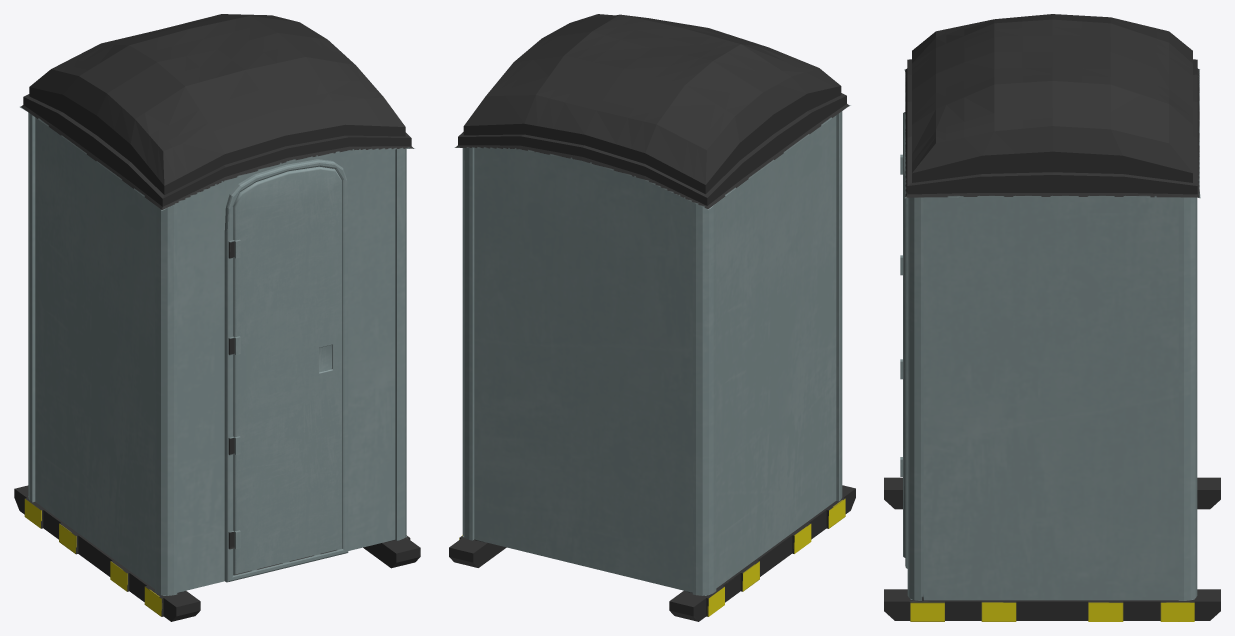
Rendered from toilette.fbx.
3 views of the same model, side by side, from view 1: azimuth 30°, elevation 25°; view 2: azimuth 150°, elevation 25°; view 3: azimuth 270°, elevation 25° (orthographic). The views are drawn at different scales.
Visible parts, largest first — view 1: polySurface18, polySurface13; view 2: polySurface18; view 3: polySurface18, polySurface13.
Part boxes in pixels (<box>): polySurface18: <box>14,14,420,621</box>; polySurface13: <box>233,166,341,574</box>; polySurface18: <box>449,14,855,621</box>; polySurface18: <box>884,14,1220,621</box>; polySurface13: <box>900,112,905,557</box>.
Bounding box in the file's own units: 0.9956 × 1.83 × 1.1.
